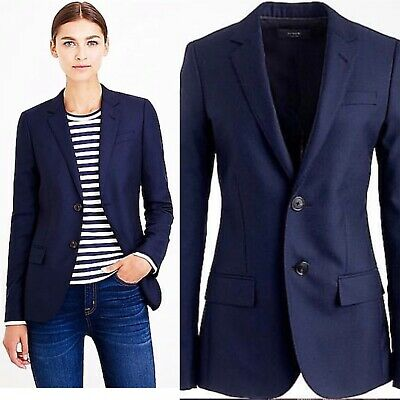F_W_suit jacket: (7, 92, 176, 303)
